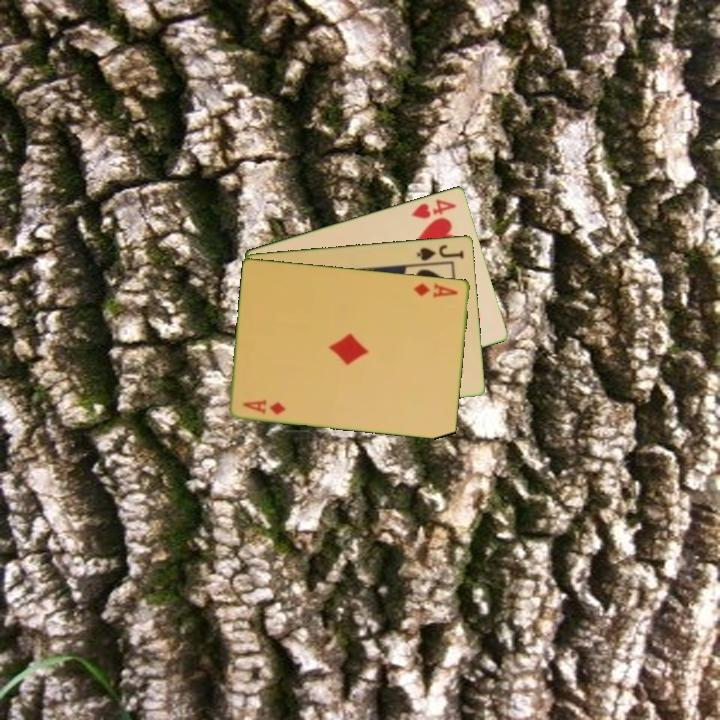4h: (408, 195, 460, 221)
Ad: (410, 279, 461, 301), (239, 396, 289, 417)
Js: (413, 241, 467, 263)
